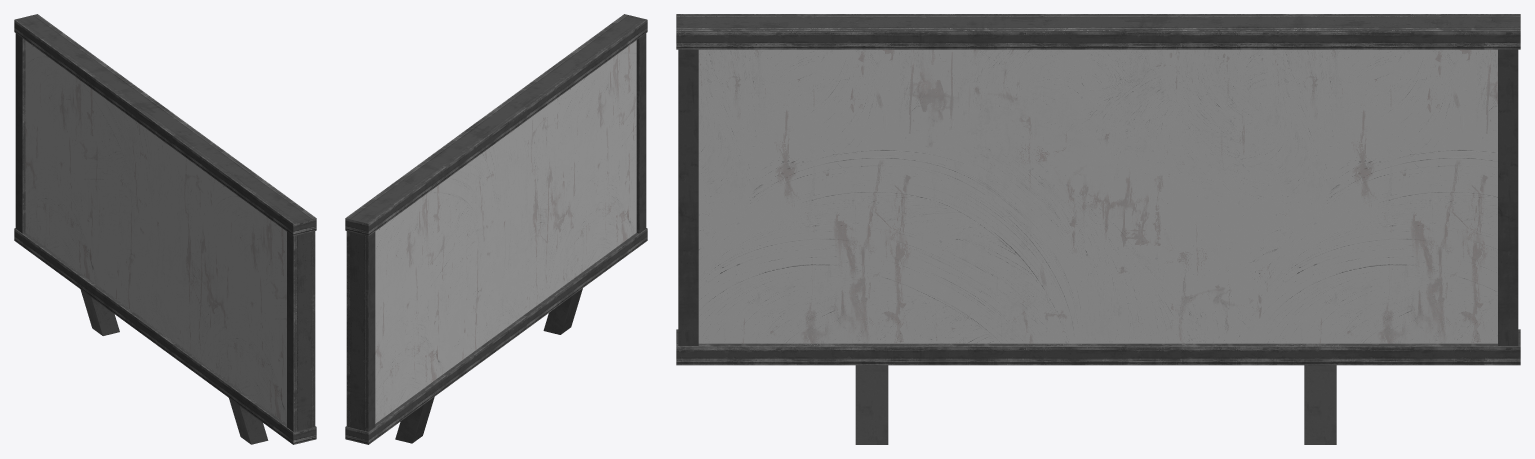
File: CP_Big_Signboard.fbx
3 views of the same model, side by side, from view 1: azimuth 30°, elevation 25°; view 2: azimuth 150°, elevation 25°; view 3: azimuth 270°, elevation 25° (orthographic). The views are drawn at different scales.
Visible parts, largest first — view 1: CP_Big_Signboard; view 2: CP_Big_Signboard; view 3: CP_Big_Signboard.
Part boxes in pixels (x1,y1,x2,y2): CP_Big_Signboard: (14,14,316,444); CP_Big_Signboard: (345,14,647,444); CP_Big_Signboard: (676,14,1520,444).
Size of the model in its own units: 51.3 by 384 by 724.
